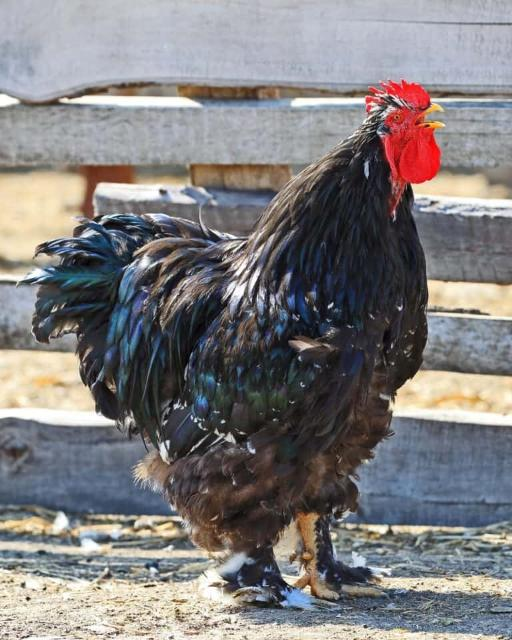Chicken: (23, 75, 449, 603)
